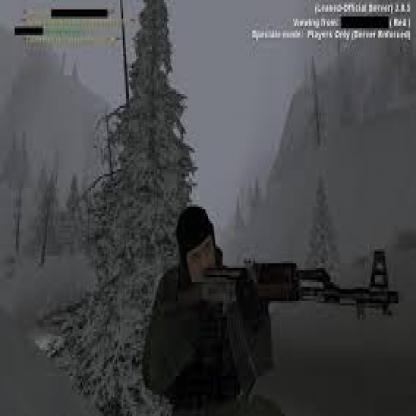Gun: (176, 244, 395, 394)
